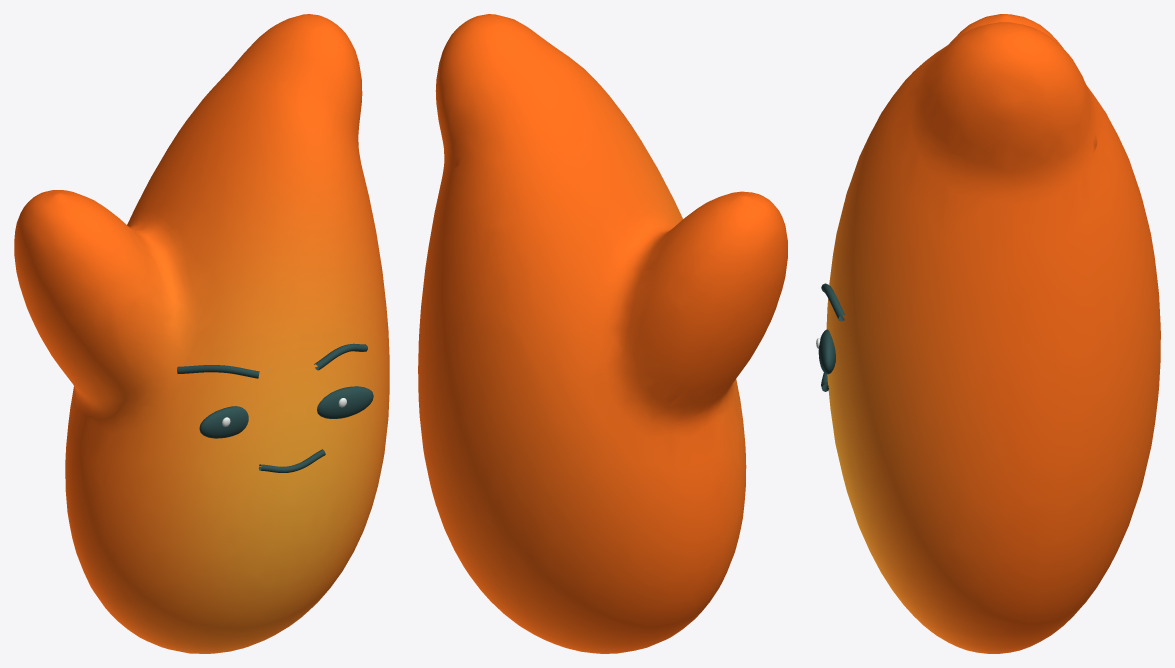
File: fire-v1.glb
3 renders of one model, left to right at view 1: azimuth 30°, elevation 25°; view 2: azimuth 150°, elevation 25°; view 3: azimuth 270°, elevation 25°, orthographic. The views are drawn at different scales.
Visible parts, largest first — view 1: fire | continuous original volume, fire | quiet eye.001, fire | quiet eye, fire | gentle brow; view 2: fire | continuous original volume; view 3: fire | continuous original volume, fire | quiet eye.001.
Boxes of the visible parts, x1,y1,x2,y2 form: fire | continuous original volume: (14, 14, 389, 653); fire | quiet eye.001: (317, 386, 373, 418); fire | quiet eye: (199, 406, 248, 438); fire | gentle brow: (177, 365, 259, 378); fire | continuous original volume: (418, 14, 787, 653); fire | continuous original volume: (826, 14, 1160, 653); fire | quiet eye.001: (818, 329, 835, 374).
Size of the model in its own units: 1.4 by 2.34 by 1.1.
